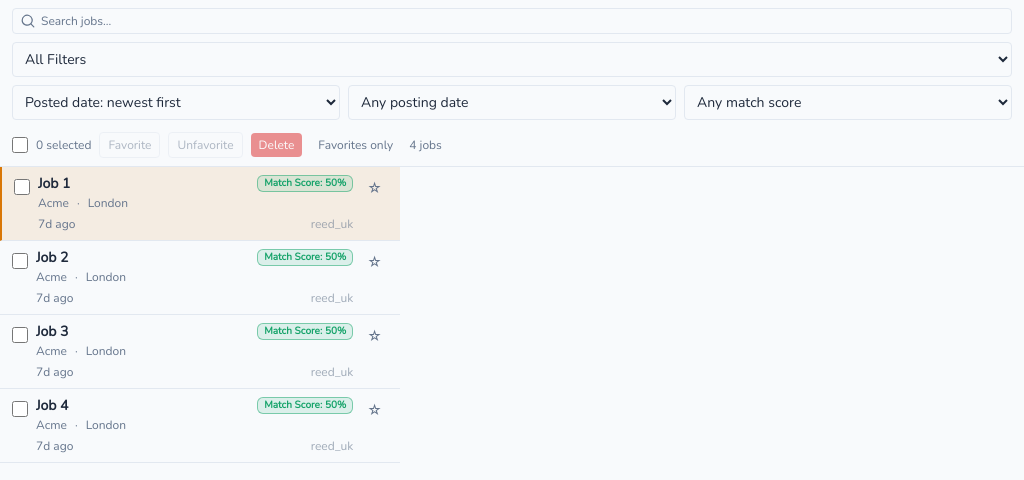
Test: JobList › supports shift-select with checkbox from selected row anchor
The width and height of the screenshot is (1024, 480).
What coordinates should you click on to do the following:
click the checkbox named "select job job 3"
I would click on:
 (20, 335)
Its box is [12,327,28,343].
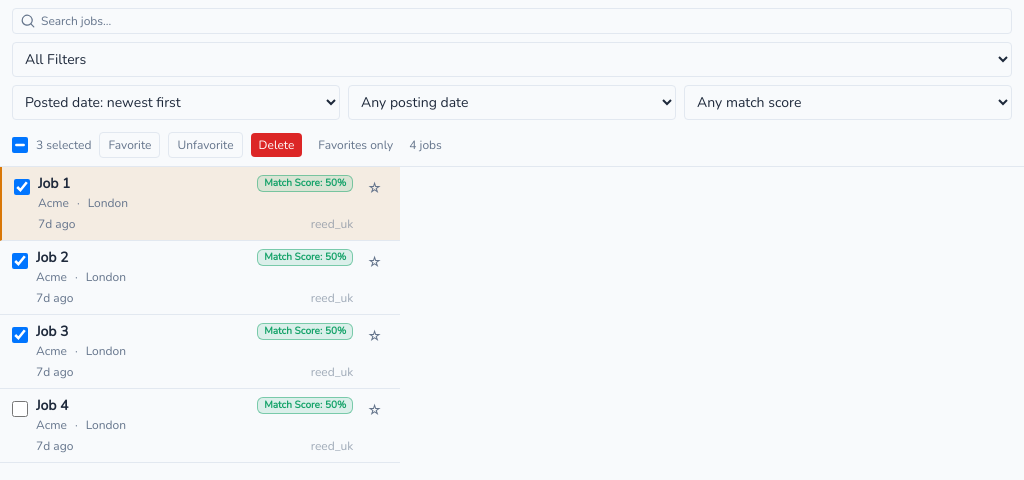
Expected: the text "3 selected" is shown, [12,137,91,153]
Expected: the checkbox named "select job job 1" is checked, [14,179,30,195]
Expected: the checkbox named "select job job 2" is checked, [12,253,28,269]
